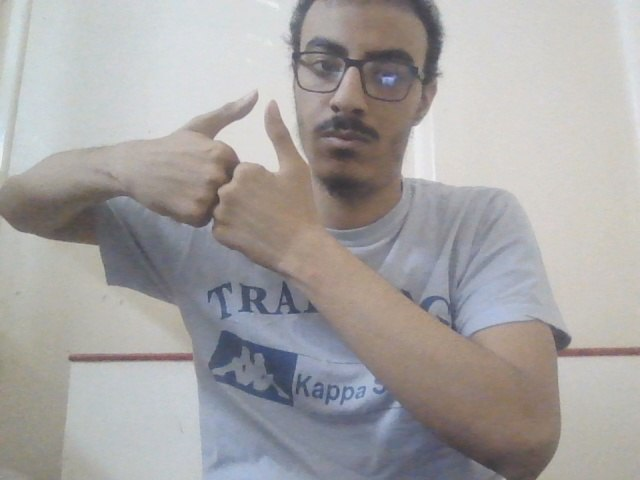Help: (126, 77, 341, 301)
